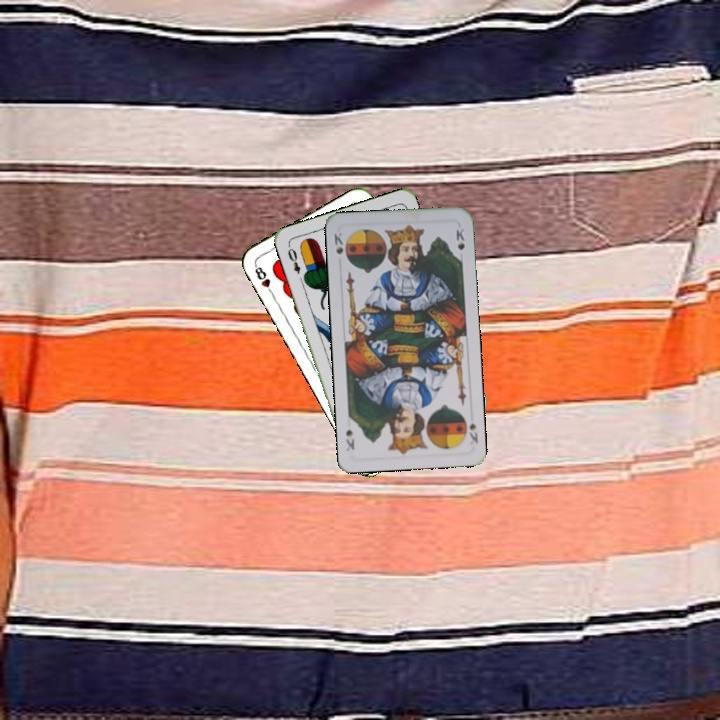EO: (284, 244, 303, 276)
H8: (250, 261, 276, 298)
SK: (465, 418, 480, 449), (330, 229, 346, 257)
